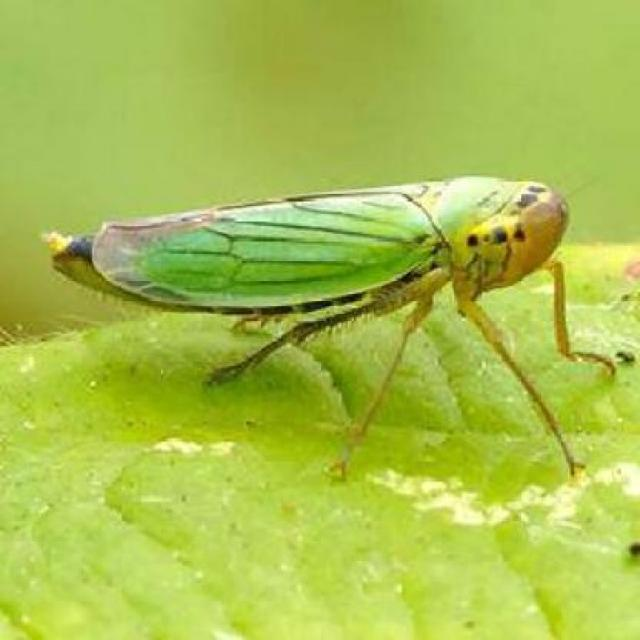green-leafhopper: (49, 179, 618, 480)
